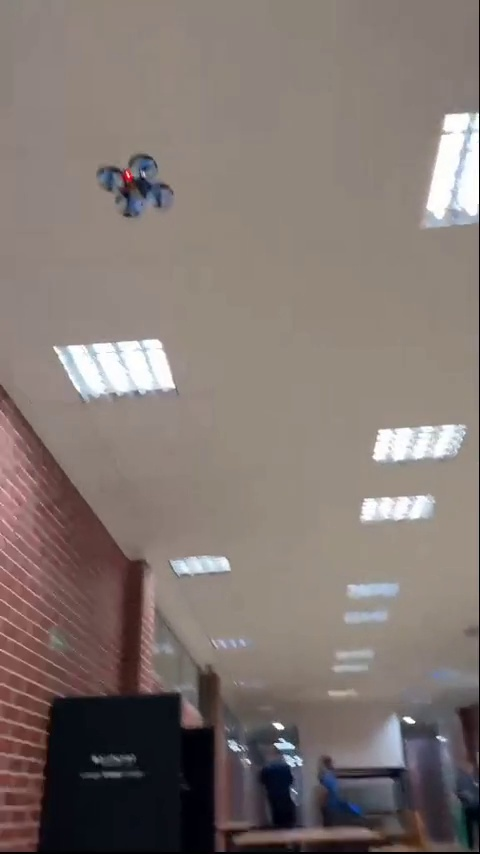drone: (96, 157, 182, 217)
no vest: (309, 749, 352, 805), (451, 755, 480, 809)
